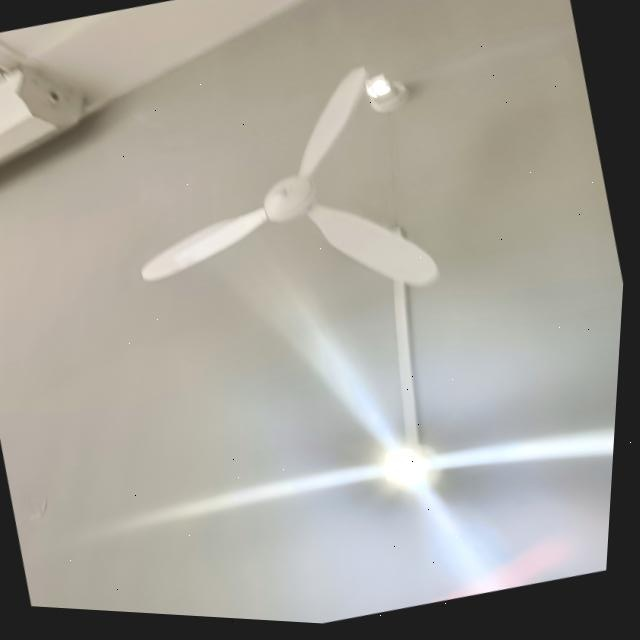fluorescent tube: (309, 401, 491, 535), (312, 44, 468, 141)
